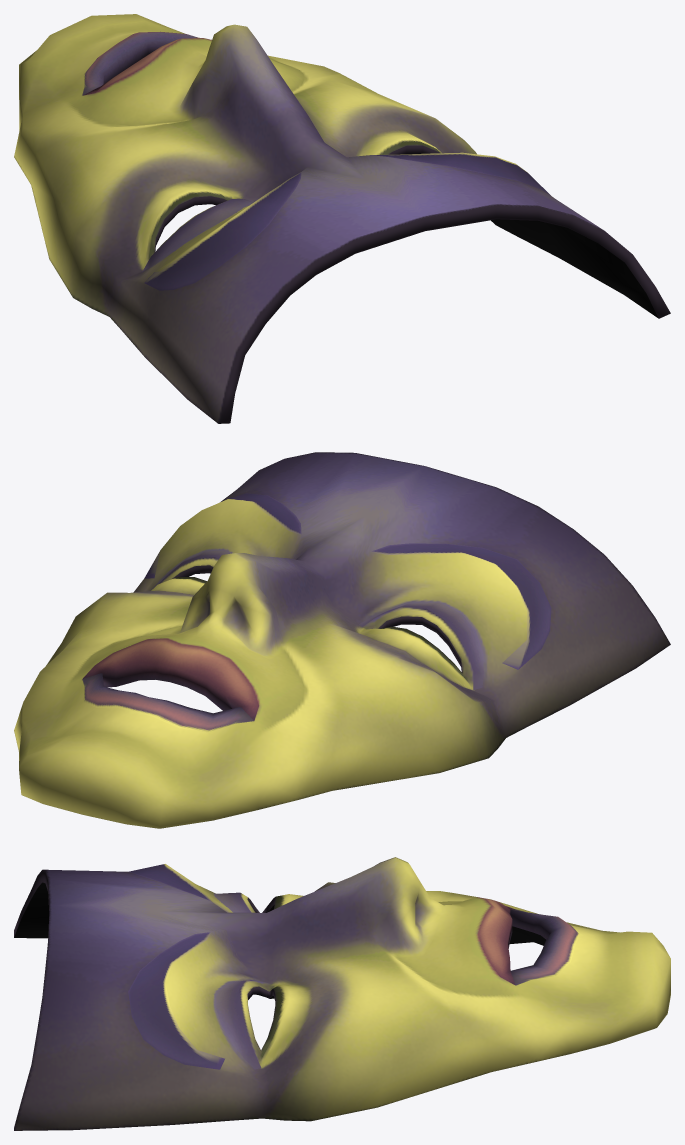
The model's file is anim1_000023.obj.
3 views of the same model, one above another, from view 1: azimuth 30°, elevation 25°; view 2: azimuth 150°, elevation 25°; view 3: azimuth 270°, elevation 25° (orthographic). The views are drawn at different scales.
Parts seen in each view (by area): view 1: 151out; view 2: 151out; view 3: 151out.
Boxes of the visible parts, x1,y1,x2,y2 form: 151out: (14, 14, 670, 423); 151out: (14, 452, 670, 828); 151out: (14, 857, 670, 1130).
Bounding box in the file's own units: 4.16 × 1.69 × 5.76.
